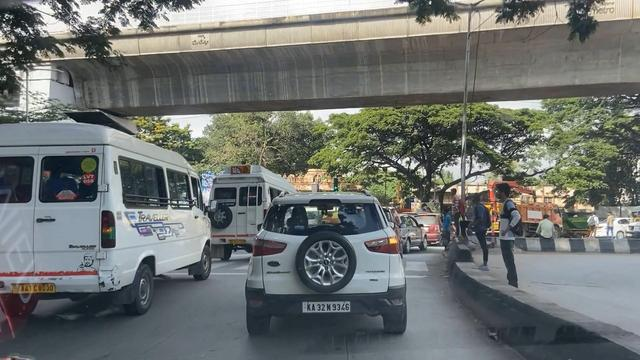HMV: (0, 113, 210, 310), (208, 173, 269, 258)
LMV: (258, 186, 406, 333)
